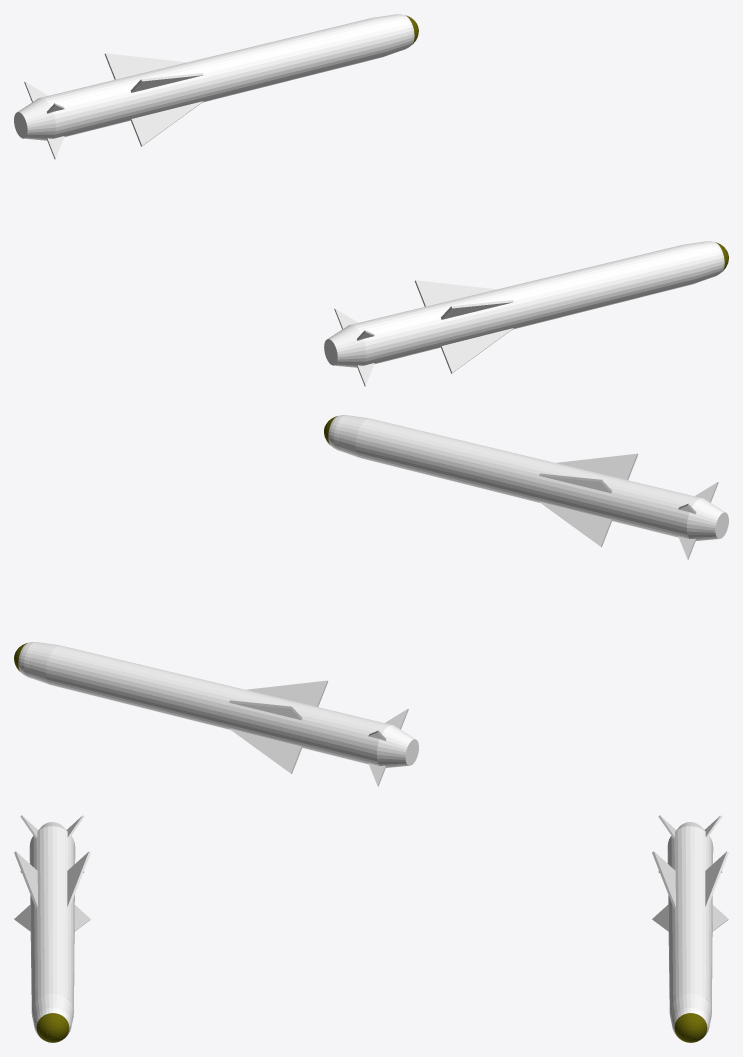
Rendered from asm2l2f2a12.glb.
The picture shows the model from 3 angles, top to bottom: view 1: azimuth 30°, elevation 25°; view 2: azimuth 150°, elevation 25°; view 3: azimuth 270°, elevation 25°; orthographic projection. The views are drawn at different scales.
Parts seen in each view (by area): view 1: 球.001, 球.008; view 2: 球.001, 球.008; view 3: 球.008, 球.001.
Boxes of the visible parts, box(x1,y1,x2,y2) form: 球.001: box(14, 14, 418, 159); 球.008: box(324, 241, 728, 386); 球.001: box(14, 642, 418, 786); 球.008: box(324, 415, 728, 559); 球.008: box(14, 815, 90, 1042); 球.001: box(652, 815, 728, 1042).
Bounding box in the file's own units: 5.34 × 0.8721 × 8.1.
1 material, 1 textured.
